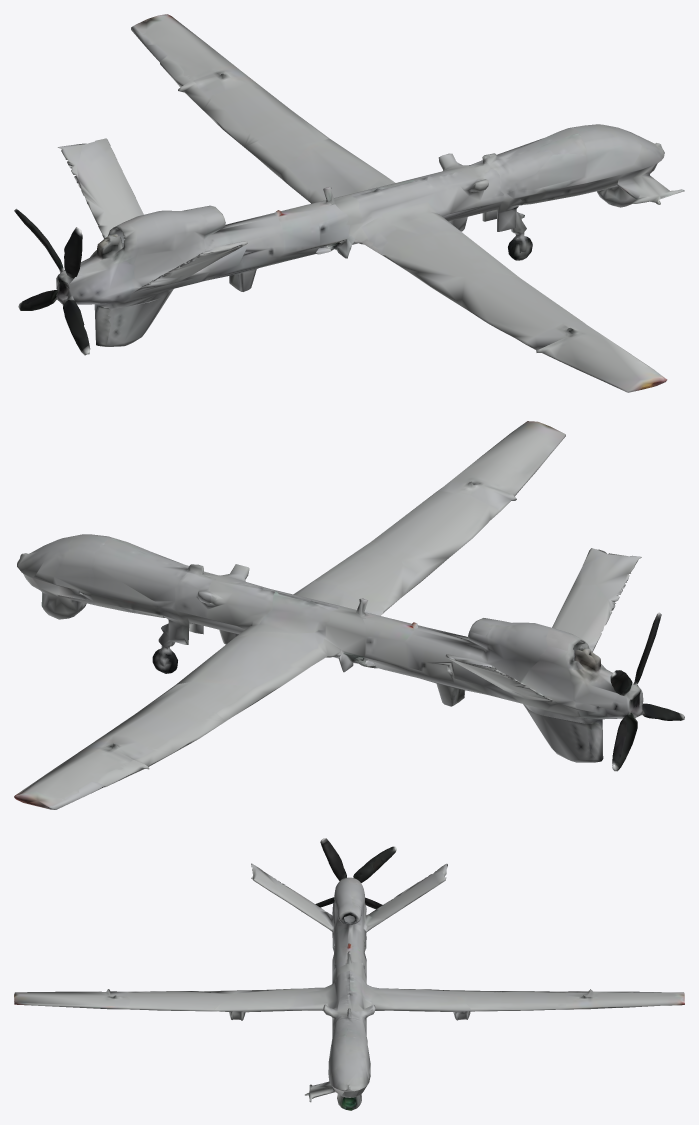
File: mq9b_seaguardian.glb
3 renders of one model, top to bottom at view 1: azimuth 30°, elevation 25°; view 2: azimuth 150°, elevation 25°; view 3: azimuth 270°, elevation 25°, orthographic. The views are drawn at different scales.
Parts seen in each view (by area): view 1: tripo_node_93a09c38-364e-4c85-b64f-05c789286581; view 2: tripo_node_93a09c38-364e-4c85-b64f-05c789286581; view 3: tripo_node_93a09c38-364e-4c85-b64f-05c789286581.
Part boxes in pixels (left/top/right/bottom): tripo_node_93a09c38-364e-4c85-b64f-05c789286581: left=14, top=14, right=684, bottom=392; tripo_node_93a09c38-364e-4c85-b64f-05c789286581: left=14, top=421, right=684, bottom=809; tripo_node_93a09c38-364e-4c85-b64f-05c789286581: left=14, top=838, right=684, bottom=1110.
Size of the model in its own units: 0.7103 by 0.1751 by 0.9998.
1 material, 1 textured.
